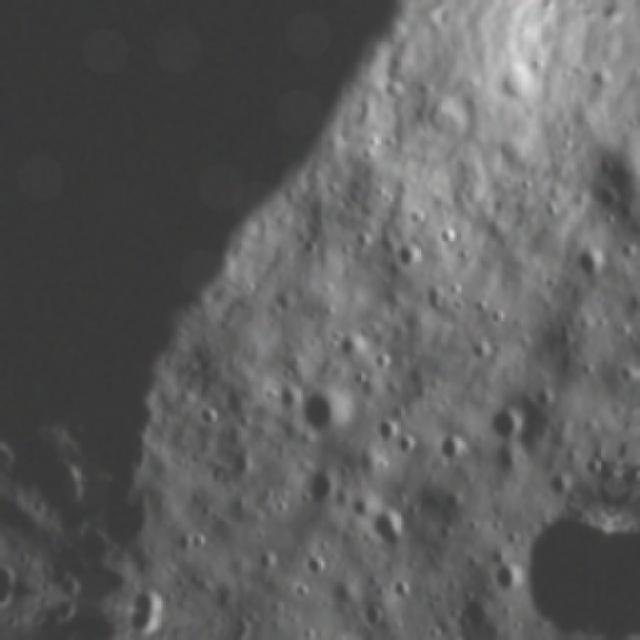crater: (511, 492, 609, 640), (27, 447, 98, 525), (295, 384, 367, 444), (366, 501, 420, 562), (492, 61, 546, 107), (482, 556, 524, 610), (293, 468, 342, 512), (116, 585, 181, 617), (296, 548, 339, 594), (434, 430, 472, 472), (574, 244, 606, 288), (486, 408, 519, 448), (528, 382, 561, 416), (420, 283, 448, 323), (484, 304, 514, 338), (354, 604, 383, 639), (368, 351, 400, 382), (389, 432, 423, 461), (182, 530, 216, 559), (336, 329, 367, 360), (195, 401, 228, 430), (582, 454, 607, 486), (425, 627, 485, 640), (574, 360, 600, 389), (436, 221, 462, 247), (542, 469, 568, 494), (621, 288, 640, 322), (298, 236, 325, 259), (616, 242, 638, 270), (592, 188, 617, 212), (376, 420, 398, 446), (454, 244, 478, 265), (613, 366, 636, 386), (408, 207, 428, 230), (469, 298, 489, 318), (446, 279, 466, 299), (364, 132, 384, 152), (448, 298, 470, 316), (600, 212, 618, 230)
